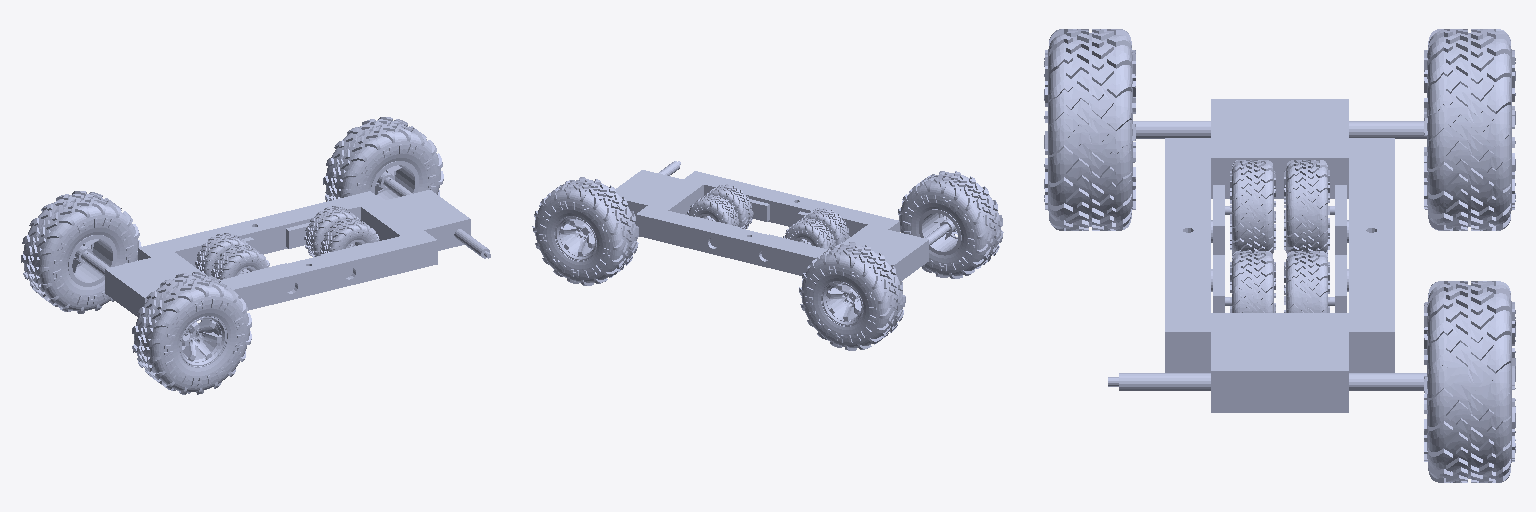
--- Render facts (derived) ---
Views: 3 orthographic renders of the robot side by side, from view 1: azimuth 30°, elevation 25°; view 2: azimuth 150°, elevation 25°; view 3: azimuth 270°, elevation 25°.
Robot: optimus_corrected_origin — 19 links, 18 joints (8 continuous, 10 fixed); root link base_link; default pose: all joints at 0.
Links seen in each view (by area): view 1: base_link, RR_outer_wheel_link, RL_outer_wheel_link, FR_outer_wheel_link, F_bogie_link, R_bogie_link, FR_inner_wheel_link, RR_inner_wheel_link, FL_inner_wheel_link, RL_inner_wheel_link; view 2: base_link, RL_outer_wheel_link, FR_outer_wheel_link, RR_outer_wheel_link, F_bogie_link, R_bogie_link, FL_inner_wheel_link, RL_inner_wheel_link, FR_inner_wheel_link, RR_inner_wheel_link; view 3: base_link, FR_outer_wheel_link, RR_outer_wheel_link, RL_outer_wheel_link, F_bogie_link, R_bogie_link, RL_inner_wheel_link, RR_inner_wheel_link, FL_inner_wheel_link, FR_inner_wheel_link, FL_outer_wheel_connector_link, FR_outer_wheel_connector_link (+6 smaller).
Boxes of the visible links, bbox=[...] form: base_link: bbox=[138, 191, 437, 310]; RR_outer_wheel_link: bbox=[132, 272, 251, 394]; RL_outer_wheel_link: bbox=[21, 191, 141, 313]; FR_outer_wheel_link: bbox=[323, 117, 443, 201]; F_bogie_link: bbox=[361, 190, 470, 263]; R_bogie_link: bbox=[105, 252, 207, 316]; FR_inner_wheel_link: bbox=[320, 218, 379, 253]; RR_inner_wheel_link: bbox=[211, 245, 269, 279]; FL_inner_wheel_link: bbox=[304, 206, 358, 256]; RL_inner_wheel_link: bbox=[195, 233, 250, 275]; base_link: bbox=[636, 171, 899, 275]; RL_outer_wheel_link: bbox=[799, 242, 905, 350]; FR_outer_wheel_link: bbox=[532, 177, 638, 285]; RR_outer_wheel_link: bbox=[898, 171, 1003, 278]; F_bogie_link: bbox=[615, 170, 703, 234]; R_bogie_link: bbox=[842, 225, 928, 280]; FL_inner_wheel_link: bbox=[687, 194, 739, 227]; RL_inner_wheel_link: bbox=[783, 218, 835, 248]; FR_inner_wheel_link: bbox=[705, 184, 753, 228]; RR_inner_wheel_link: bbox=[802, 208, 849, 244]; base_link: bbox=[1165, 138, 1394, 372]; FR_outer_wheel_link: bbox=[1424, 281, 1515, 482]; RR_outer_wheel_link: bbox=[1044, 29, 1135, 230]; RL_outer_wheel_link: bbox=[1424, 29, 1515, 230]; F_bogie_link: bbox=[1211, 313, 1348, 412]; R_bogie_link: bbox=[1211, 99, 1348, 198]; RL_inner_wheel_link: bbox=[1284, 160, 1334, 255]; RR_inner_wheel_link: bbox=[1225, 160, 1275, 255]; FL_inner_wheel_link: bbox=[1284, 251, 1334, 312]; FR_inner_wheel_link: bbox=[1225, 251, 1275, 312]; FL_outer_wheel_connector_link: bbox=[1108, 373, 1210, 390]; FR_outer_wheel_connector_link: bbox=[1349, 373, 1426, 390].
Size in the robot's own frame: 3.48 by 2.05 by 0.8842 metres.
Meshes: 19 distinct files referenced, 18 mesh visuals loaded (18 binary STL); not drawn: 1 (reference not matched to a file when rendering).

The robot description file, URDF, robot "optimus_corrected_origin":
<?xml version="1.0" encoding="utf-8"?>
<!-- This URDF was automatically created by SolidWorks to URDF Exporter! Originally created by Stephen Brawner ([email redacted]) 
     Commit Version: 1.6.0-1-g15f4949  Build Version: 1.6.7594.29634
     For more information, please see http://wiki.ros.org/sw_urdf_exporter -->
<robot
  name="optimus_corrected_origin">
  <link
    name="base_link">
    <inertial>
      <origin
        xyz="0.00027198 0 -0.1"
        rpy="0 0 0" />
      <mass
        value="144.39" />
      <inertia
        ixx="0.9898"
        ixy="-4.8728E-16"
        ixz="-3.8733E-16"
        iyy="11.564"
        iyz="1.3264E-17"
        izz="11.526" />
    </inertial>
    <visual>
      <origin
        xyz="0 0 0"
        rpy="0 0 0" />
      <geometry>
        <mesh
          filename="package://optimus_corrected_origin/meshes/base_link.STL" />
      </geometry>
      <material
        name="">
        <color
          rgba="0.79216 0.81961 0.93333 1" />
      </material>
    </visual>
    <collision>
      <origin
        xyz="0 0 0"
        rpy="0 0 0" />
      <geometry>
        <mesh
          filename="package://optimus_corrected_origin/meshes/base_link.STL" />
      </geometry>
    </collision>
  </link>
  <link
    name="F_bogie_link">
    <inertial>
      <origin
        xyz="-0.024416 2.2204E-16 -0.1"
        rpy="0 0 0" />
      <mass
        value="75.142" />
      <inertia
        ixx="3.3216"
        ixy="-2.8318E-16"
        ixz="-1.0263E-16"
        iyy="2.4935"
        iyz="-3.1203E-18"
        izz="5.3225" />
    </inertial>
    <visual>
      <origin
        xyz="0 0 0"
        rpy="0 0 0" />
      <geometry>
        <mesh
          filename="package://optimus_corrected_origin/meshes/F_bogie_link.STL" />
      </geometry>
      <material
        name="">
        <color
          rgba="0.79216 0.81961 0.93333 1" />
      </material>
    </visual>
    <collision>
      <origin
        xyz="0 0 0"
        rpy="0 0 0" />
      <geometry>
        <mesh
          filename="package://optimus_corrected_origin/meshes/F_bogie_link.STL" />
      </geometry>
    </collision>
  </link>
  <joint
    name="F_bogie_joint"
    type="fixed">
    <origin
      xyz="1.1 0 0"
      rpy="0 0 0" />
    <parent
      link="base_link" />
    <child
      link="F_bogie_link" />
    <axis
      xyz="0 0 0" />
  </joint>
  <link
    name="FR_outer_wheel_connector_link">
    <inertial>
      <origin
        xyz="-1.85268467234323E-15 0.206818181818182 4.10782519111308E-15"
        rpy="0 0 0" />
      <mass
        value="2.07345115136926" />
      <inertia
        ixx="0.0307163509718099"
        ixy="1.36572961430801E-17"
        ixz="3.68922553198698E-20"
        iyy="0.00162106180925233"
        iyz="-4.74701603502452E-17"
        izz="0.0307163509718099" />
    </inertial>
    <visual>
      <origin
        xyz="0 0 0"
        rpy="0 0 0" />
      <geometry>
        <mesh
          filename="package://optimus_corrected_origin/meshes/FR_outer_wheel_connector_link.STL" />
      </geometry>
      <material
        name="">
        <color
          rgba="0.792156862745098 0.819607843137255 0.933333333333333 1" />
      </material>
    </visual>
    <collision>
      <origin
        xyz="0 0 0"
        rpy="0 0 0" />
      <geometry>
        <mesh
          filename="package://optimus_corrected_origin/meshes/FR_outer_wheel_connector_link.STL" />
      </geometry>
    </collision>
  </link>
  <joint
    name="FR_outer_wheel_connector_joint"
    type="fixed">
    <origin
      xyz="0.2 0.3 -0.1"
      rpy="0 0 0" />
    <parent
      link="F_bogie_link" />
    <child
      link="FR_outer_wheel_connector_link" />
    <axis
      xyz="0 0 0" />
  </joint>
  <link
    name="FR_outer_wheel_link">
    <inertial>
      <origin
        xyz="7.94662217230846E-07 0.201565805423125 -3.29128348464103E-06"
        rpy="0 0 0" />
      <mass
        value="39.6885330149725" />
      <inertia
        ixx="2.95667434379043"
        ixy="-1.79772249602782E-06"
        ixz="-4.34948566726761E-06"
        iyy="4.63080044138697"
        iyz="7.42030339833979E-06"
        izz="2.95669122576413" />
    </inertial>
    <visual>
      <origin
        xyz="0 0 0"
        rpy="0 0 0" />
      <geometry>
        <mesh
          filename="package://optimus_corrected_origin/meshes/FR_outer_wheel_link.STL" />
      </geometry>
      <material
        name="">
        <color
          rgba="0.792156862745098 0.819607843137255 0.933333333333333 1" />
      </material>
    </visual>
    <collision>
      <origin
        xyz="0 0 0"
        rpy="0 0 0" />
      <geometry>
        <mesh
          filename="package://optimus_corrected_origin/meshes/FR_outer_wheel_link.STL" />
      </geometry>
    </collision>
  </link>
  <joint
    name="FR_outer_wheel_joint"
    type="continuous">
    <origin
      xyz="0 0.32674 0"
      rpy="0 0 0" />
    <parent
      link="FR_outer_wheel_connector_link" />
    <child
      link="FR_outer_wheel_link" />
    <axis
      xyz="0 1 0" />
  </joint>
  <link
    name="FL_outer_wheel_connector_link">
    <inertial>
      <origin
        xyz="-5.37070388162419E-15 -0.206818181818182 6.77236045021345E-15"
        rpy="0 0 0" />
      <mass
        value="2.07345115136926" />
      <inertia
        ixx="0.0307163509718099"
        ixy="8.97759060052446E-18"
        ixz="-1.25952034604741E-19"
        iyy="0.00162106180925233"
        iyz="2.16951266466499E-17"
        izz="0.0307163509718099" />
    </inertial>
    <visual>
      <origin
        xyz="0 0 0"
        rpy="0 0 0" />
      <geometry>
        <mesh
          filename="package://optimus_corrected_origin/meshes/FL_outer_wheel_connector_link.STL" />
      </geometry>
      <material
        name="">
        <color
          rgba="0.792156862745098 0.819607843137255 0.933333333333333 1" />
      </material>
    </visual>
    <collision>
      <origin
        xyz="0 0 0"
        rpy="0 0 0" />
      <geometry>
        <mesh
          filename="package://optimus_corrected_origin/meshes/FL_outer_wheel_connector_link.STL" />
      </geometry>
    </collision>
  </link>
  <joint
    name="FL_outer_wheel_connector_joint"
    type="fixed">
    <origin
      xyz="0.2 -0.3 -0.1"
      rpy="0 0 0" />
    <parent
      link="F_bogie_link" />
    <child
      link="FL_outer_wheel_connector_link" />
    <axis
      xyz="0 0 0" />
  </joint>
  <link
    name="FL_outer_wheel__link">
    <inertial>
      <origin
        xyz="-2.92249659344934E-06 -0.201565805423117 -1.70969258106446E-06"
        rpy="0 0 0" />
      <mass
        value="39.6885330149755" />
      <inertia
        ixx="2.95668745449248"
        ixy="-6.59311314635011E-06"
        ixz="8.26813447856092E-06"
        iyy="4.63080044138726"
        iyz="-3.85013865752919E-06"
        izz="2.95667811506248" />
    </inertial>
    <visual>
      <origin
        xyz="0 0 0"
        rpy="0 0 0" />
      <geometry>
        <mesh
          filename="package://optimus_corrected_origin/meshes/FL_outer_wheel__link.STL" />
      </geometry>
      <material
        name="">
        <color
          rgba="0.792156862745098 0.819607843137255 0.933333333333333 1" />
      </material>
    </visual>
    <collision>
      <origin
        xyz="0 0 0"
        rpy="0 0 0" />
      <geometry>
        <mesh
          filename="package://optimus_corrected_origin/meshes/FL_outer_wheel__link.STL" />
      </geometry>
    </collision>
  </link>
  <joint
    name="FL_outer_wheel_joint"
    type="continuous">
    <origin
      xyz="0 -0.32674 0"
      rpy="0 0 0" />
    <parent
      link="FL_outer_wheel_connector_link" />
    <child
      link="FL_outer_wheel__link" />
    <axis
      xyz="0 -1 0" />
  </joint>
  <link
    name="R_bogie_link">
    <inertial>
      <origin
        xyz="0.0244164389508561 1.11022302462516E-16 -0.0999999999999998"
        rpy="0 0 0" />
      <mass
        value="75.1415926535897" />
      <inertia
        ixx="3.32158725212812"
        ixy="1.04663201039582E-16"
        ixz="-6.0439083476423E-17"
        iyy="2.49354029185103"
        iyz="1.38285501712138E-16"
        izz="5.32245435921456" />
    </inertial>
    <visual>
      <origin
        xyz="0 0 0"
        rpy="0 0 0" />
      <geometry>
        <mesh
          filename="package://optimus_corrected_origin/meshes/R_bogie_link.STL" />
      </geometry>
      <material
        name="">
        <color
          rgba="0.792156862745098 0.819607843137255 0.933333333333333 1" />
      </material>
    </visual>
    <collision>
      <origin
        xyz="0 0 0"
        rpy="0 0 0" />
      <geometry>
        <mesh
          filename="package://optimus_corrected_origin/meshes/R_bogie_link.STL" />
      </geometry>
    </collision>
  </link>
  <joint
    name="R_bogie_joint"
    type="fixed">
    <origin
      xyz="-1.1 0 0"
      rpy="0 0 0" />
    <parent
      link="base_link" />
    <child
      link="R_bogie_link" />
    <axis
      xyz="0 0 0" />
  </joint>
  <link
    name="RL_outer_wheel_connector_link">
    <inertial>
      <origin
        xyz="-4.44089209850063E-16 0.206818181818182 2.22044604925031E-16"
        rpy="0 0 0" />
      <mass
        value="2.07345115136926" />
      <inertia
        ixx="0.0307163509718099"
        ixy="-1.54925599286273E-17"
        ixz="7.77880648044805E-20"
        iyy="0.00162106180925233"
        iyz="-2.30745184784673E-17"
        izz="0.0307163509718099" />
    </inertial>
    <visual>
      <origin
        xyz="0 0 0"
        rpy="0 0 0" />
      <geometry>
        <mesh
          filename="package://optimus_corrected_origin/meshes/RL_outer_wheel_connector_link.STL" />
      </geometry>
      <material
        name="">
        <color
          rgba="0.792156862745098 0.819607843137255 0.933333333333333 1" />
      </material>
    </visual>
    <collision>
      <origin
        xyz="0 0 0"
        rpy="0 0 0" />
      <geometry>
        <mesh
          filename="package://optimus_corrected_origin/meshes/RL_outer_wheel_connector_link.STL" />
      </geometry>
    </collision>
  </link>
  <joint
    name="RL_outer_wheel_connector_joint"
    type="fixed">
    <origin
      xyz="-0.2 0.3 -0.1"
      rpy="0 0 0" />
    <parent
      link="R_bogie_link" />
    <child
      link="RL_outer_wheel_connector_link" />
    <axis
      xyz="0 0 0" />
  </joint>
  <link
    name="RL_outer_wheel_link">
    <inertial>
      <origin
        xyz="1.05037916053874E-06 0.201565805282954 -3.21870601693863E-06"
        rpy="0 0 0" />
      <mass
        value="39.6885328227854" />
      <inertia
        ixx="2.95667512850444"
        ixy="-2.37453572280207E-06"
        ixz="-5.61709097472745E-06"
        iyy="4.63080044108311"
        iyz="7.25624788537814E-06"
        izz="2.95669044061308" />
    </inertial>
    <visual>
      <origin
        xyz="0 0 0"
        rpy="0 0 0" />
      <geometry>
        <mesh
          filename="package://optimus_corrected_origin/meshes/RL_outer_wheel_link.STL" />
      </geometry>
      <material
        name="">
        <color
          rgba="0.792156862745098 0.819607843137255 0.933333333333333 1" />
      </material>
    </visual>
    <collision>
      <origin
        xyz="0 0 0"
        rpy="0 0 0" />
      <geometry>
        <mesh
          filename="package://optimus_corrected_origin/meshes/RL_outer_wheel_link.STL" />
      </geometry>
    </collision>
  </link>
  <joint
    name="RL_outer_wheel_joint"
    type="continuous">
    <origin
      xyz="0 0.32674 0"
      rpy="0 0 0" />
    <parent
      link="RL_outer_wheel_connector_link" />
    <child
      link="RL_outer_wheel_link" />
    <axis
      xyz="0 1 0" />
  </joint>
  <link
    name="RR_outer_wheel_connector_link">
    <inertial>
      <origin
        xyz="1.33226762955019E-15 -0.206818181818182 -1.11022302462516E-16"
        rpy="0 0 0" />
      <mass
        value="2.07345115136926" />
      <inertia
        ixx="0.0307163509718099"
        ixy="3.02822472609956E-18"
        ixz="1.04996792420079E-20"
        iyy="0.00162106180925233"
        iyz="1.93901600133467E-17"
        izz="0.0307163509718099" />
    </inertial>
    <visual>
      <origin
        xyz="0 0 0"
        rpy="0 0 0" />
      <geometry>
        <mesh
          filename="package://optimus_corrected_origin/meshes/RR_outer_wheel_connector_link.STL" />
      </geometry>
      <material
        name="">
        <color
          rgba="0.792156862745098 0.819607843137255 0.933333333333333 1" />
      </material>
    </visual>
    <collision>
      <origin
        xyz="0 0 0"
        rpy="0 0 0" />
      <geometry>
        <mesh
          filename="package://optimus_corrected_origin/meshes/RR_outer_wheel_connector_link.STL" />
      </geometry>
    </collision>
  </link>
  <joint
    name="RR_outer_wheel_connector_joint"
    type="fixed">
    <origin
      xyz="-0.2 -0.3 -0.1"
      rpy="0 0 0" />
    <parent
      link="R_bogie_link" />
    <child
      link="RR_outer_wheel_connector_link" />
    <axis
      xyz="0 0 0" />
  </joint>
  <link
    name="RR_outer_wheel_link">
    <inertial>
      <origin
        xyz="-3.13523784090108E-06 -0.201565805423125 -1.27840475139251E-06"
        rpy="0 0 0" />
      <mass
        value="39.6885330149728" />
      <inertia
        ixx="2.95668958616865"
        ixy="-7.07207631433677E-06"
        ixz="6.62641370626784E-06"
        iyy="4.630800441387"
        iyz="-2.87722872087634E-06"
        izz="2.95667598338593" />
    </inertial>
    <visual>
      <origin
        xyz="0 0 0"
        rpy="0 0 0" />
      <geometry>
        <mesh
          filename="package://optimus_corrected_origin/meshes/RR_outer_wheel_link.STL" />
      </geometry>
      <material
        name="">
        <color
          rgba="0.792156862745098 0.819607843137255 0.933333333333333 1" />
      </material>
    </visual>
    <collision>
      <origin
        xyz="0 0 0"
        rpy="0 0 0" />
      <geometry>
        <mesh
          filename="package://optimus_corrected_origin/meshes/RR_outer_wheel_link.STL" />
      </geometry>
    </collision>
  </link>
  <joint
    name="RR_outer_wheel_joint"
    type="continuous">
    <origin
      xyz="0 -0.32674 0"
      rpy="0 0 0" />
    <parent
      link="RR_outer_wheel_connector_link" />
    <child
      link="RR_outer_wheel_link" />
    <axis
      xyz="0 -1 0" />
  </joint>
  <link
    name="FL_inner_wheel_connector_link">
    <inertial>
      <origin
        xyz="0.20508770745258 0.000744286749609024 -1.11022302462516E-16"
        rpy="0 0 0" />
      <mass
        value="3.16570796326795" />
      <inertia
        ixx="0.00666180087935192"
        ixy="0.000247607077286714"
        ixz="1.6098074917693E-19"
        iyy="0.0524105342655653"
        iyz="6.75526439645087E-19"
        izz="0.0471742267451069" />
    </inertial>
    <visual>
      <origin
        xyz="0 0 0"
        rpy="0 0 0" />
      <geometry>
        <mesh
          filename="package://optimus_corrected_origin/meshes/FL_inner_wheel_connector_link.STL" />
      </geometry>
      <material
        name="">
        <color
          rgba="0.792156862745098 0.819607843137255 0.933333333333333 1" />
      </material>
    </visual>
    <collision>
      <origin
        xyz="0 0 0"
        rpy="0 0 0" />
      <geometry>
        <mesh
          filename="package://optimus_corrected_origin/meshes/FL_inner_wheel_connector_link.STL" />
      </geometry>
    </collision>
  </link>
  <joint
    name="FL_inner_wheel_connector_joint"
    type="fixed">
    <origin
      xyz="0.15 0.265 -0.1"
      rpy="0 0 0" />
    <parent
      link="base_link" />
    <child
      link="FL_inner_wheel_connector_link" />
    <axis
      xyz="0 0 0" />
  </joint>
  <link
    name="FL_inner_wheel_link">
    <inertial>
      <origin
        xyz="-2.22300115826357E-06 -0.122556778342617 -2.50814959334988E-06"
        rpy="0 0 0" />
      <mass
        value="5.0050487689712" />
      <inertia
        ixx="0.0924066318833436"
        ixy="-1.58412736937296E-07"
        ixz="2.94669651268579E-07"
        iyy="0.144720367774976"
        iyz="-1.78414903657771E-07"
        izz="0.092406701876922" />
    </inertial>
    <visual>
      <origin
        xyz="0 0 0"
        rpy="0 0 0" />
      <geometry>
        <mesh
          filename="package://optimus_corrected_origin/meshes/FL_inner_wheel_link.STL" />
      </geometry>
      <material
        name="">
        <color
          rgba="0.792156862745098 0.819607843137255 0.933333333333333 1" />
      </material>
    </visual>
    <collision>
      <origin
        xyz="0 0 0"
        rpy="0 0 0" />
      <geometry>
        <mesh
          filename="package://optimus_corrected_origin/meshes/FL_inner_wheel_link.STL" />
      </geometry>
    </collision>
  </link>
  <joint
    name="FL_inner_wheel_joint"
    type="continuous">
    <origin
      xyz="0.32 -0.025 0"
      rpy="0 0 0" />
    <parent
      link="FL_inner_wheel_connector_link" />
    <child
      link="FL_inner_wheel_link" />
    <axis
      xyz="0 -1 0" />
  </joint>
  <link
    name="FR_inner_wheel_connector_link">
    <inertial>
      <origin
        xyz="0.20508770745258 -0.000744286749609135 1.11022302462516E-16"
        rpy="0 0 0" />
      <mass
        value="3.16570796326795" />
      <inertia
        ixx="0.0066618008793519"
        ixy="-0.000247607077286714"
        ixz="-1.17700602431743E-18"
        iyy="0.0524105342655651"
        iyz="-4.08407090334487E-19"
        izz="0.0471742267451067" />
    </inertial>
    <visual>
      <origin
        xyz="0 0 0"
        rpy="0 0 0" />
      <geometry>
        <mesh
          filename="package://optimus_corrected_origin/meshes/FR_inner_wheel_connector_link.STL" />
      </geometry>
      <material
        name="">
        <color
          rgba="0.792156862745098 0.819607843137255 0.933333333333333 1" />
      </material>
    </visual>
    <collision>
      <origin
        xyz="0 0 0"
        rpy="0 0 0" />
      <geometry>
        <mesh
          filename="package://optimus_corrected_origin/meshes/FR_inner_wheel_connector_link.STL" />
      </geometry>
    </collision>
  </link>
  <joint
    name="FR_inner_wheel_connector_joint"
    type="fixed">
    <origin
      xyz="0.15 -0.265 -0.1"
      rpy="0 0 0" />
    <parent
      link="base_link" />
    <child
      link="FR_inner_wheel_connector_link" />
    <axis
      xyz="0 0 0" />
  </joint>
  <link
    name="FR_inner_wheel_link">
    <inertial>
      <origin
        xyz="-3.31118514906859E-06 0.122556779088169 -5.18267951332696E-07"
        rpy="0 0 0" />
      <mass
        value="5.00504892402194" />
      <inertia
        ixx="0.0924069493556727"
        ixy="2.35690015618929E-07"
        ixz="9.12031624363562E-08"
        iyy="0.144720367920832"
        iyz="3.71035989474246E-08"
        izz="0.0924063846028681" />
    </inertial>
    <visual>
      <origin
        xyz="0 0 0"
        rpy="0 0 0" />
      <geometry>
        <mesh
          filename="package://optimus_corrected_origin/meshes/FR_inner_wheel_link.STL" />
      </geometry>
      <material
        name="">
        <color
          rgba="0.792156862745098 0.819607843137255 0.933333333333333 1" />
      </material>
    </visual>
    <collision>
      <origin
        xyz="0 0 0"
        rpy="0 0 0" />
      <geometry>
        <mesh
          filename="package://optimus_corrected_origin/meshes/FR_inner_wheel_link.STL" />
      </geometry>
    </collision>
  </link>
  <joint
    name="FR_inner_wheel_joint"
    type="continuous">
    <origin
      xyz="0.32 0.025 0"
      rpy="0 0 0" />
    <parent
      link="FR_inner_wheel_connector_link" />
    <child
      link="FR_inner_wheel_link" />
    <axis
      xyz="0 1 0" />
  </joint>
  <link
    name="RL_inner_wheel_connector_link">
    <inertial>
      <origin
        xyz="-0.20508770745258 0.000744286749609246 0"
        rpy="0 0 0" />
      <mass
        value="3.16570796326795" />
      <inertia
        ixx="0.00666180087935194"
        ixy="-0.000247607077286711"
        ixz="-8.57886467619125E-18"
        iyy="0.0524105342655653"
        iyz="-2.27692614209372E-18"
        izz="0.0471742267451069" />
    </inertial>
    <visual>
      <origin
        xyz="0 0 0"
        rpy="0 0 0" />
      <geometry>
        <mesh
          filename="package://optimus_corrected_origin/meshes/RL_inner_wheel_connector_link.STL" />
      </geometry>
      <material
        name="">
        <color
          rgba="0.792156862745098 0.819607843137255 0.933333333333333 1" />
      </material>
    </visual>
    <collision>
      <origin
        xyz="0 0 0"
        rpy="0 0 0" />
      <geometry>
        <mesh
          filename="package://optimus_corrected_origin/meshes/RL_inner_wheel_connector_link.STL" />
      </geometry>
    </collision>
  </link>
  <joint
    name="RL_inner_wheel_connector_joint"
    type="fixed">
    <origin
      xyz="-0.15 0.265 -0.1"
      rpy="0 0 0" />
    <parent
      link="base_link" />
    <child
      link="RL_inner_wheel_connector_link" />
    <axis
      xyz="0 0 0" />
  </joint>
  <link
    name="RL_inner_wheel_link">
    <inertial>
      <origin
        xyz="2.39870415552623E-06 -0.122556778342622 2.34067658932968E-06"
        rpy="0 0 0" />
      <mass
        value="5.00504876897168" />
      <inertia
        ixx="0.0924066747929623"
        ixy="1.70910468737889E-07"
        ixz="2.96635054499153E-07"
        iyy="0.144720367774988"
        iyz="1.66481485161672E-07"
        izz="0.0924066589673187" />
    </inertial>
    <visual>
      <origin
        xyz="0 0 0"
        rpy="0 0 0" />
      <geometry>
        <mesh
          filename="package://optimus_corrected_origin/meshes/RL_inner_wheel_link.STL" />
      </geometry>
      <material
        name="">
        <color
          rgba="0.792156862745098 0.819607843137255 0.933333333333333 1" />
      </material>
    </visual>
    <collision>
      <origin
        xyz="0 0 0"
        rpy="0 0 0" />
      <geometry>
        <mesh
          filename="package://optimus_corrected_origin/meshes/RL_inner_wheel_link.STL" />
      </geometry>
    </collision>
  </link>
  <joint
    name="RL_inner_wheel_joint"
    type="continuous">
    <origin
      xyz="-0.32 -0.025 0"
      rpy="0 0 0" />
    <parent
      link="RL_inner_wheel_connector_link" />
    <child
      link="RL_inner_wheel_link" />
    <axis
      xyz="0 -1 0" />
  </joint>
  <link
    name="RR_inner_wheel_connector_link">
    <inertial>
      <origin
        xyz="-0.20508770745258 -0.000744286749609135 1.11022302462516E-16"
        rpy="0 0 0" />
      <mass
        value="3.16570796326795" />
      <inertia
        ixx="0.00666180087935192"
        ixy="0.000247607077286714"
        ixz="3.34428024835884E-18"
        iyy="0.0524105342655651"
        iyz="-2.59900485902853E-19"
        izz="0.0471742267451067" />
    </inertial>
    <visual>
      <origin
        xyz="0 0 0"
        rpy="0 0 0" />
      <geometry>
        <mesh
          filename="package://optimus_corrected_origin/meshes/RR_inner_wheel_connector_link.STL" />
      </geometry>
      <material
        name="">
        <color
          rgba="0.792156862745098 0.819607843137255 0.933333333333333 1" />
      </material>
    </visual>
    <collision>
      <origin
        xyz="0 0 0"
        rpy="0 0 0" />
      <geometry>
        <mesh
          filename="package://optimus_corrected_origin/meshes/RR_inner_wheel_connector_link.STL" />
      </geometry>
    </collision>
  </link>
  <joint
    name="RR_inner_wheel_connector_joint"
    type="fixed">
    <origin
      xyz="-0.15 -0.265 -0.1"
      rpy="0 0 0" />
    <parent
      link="base_link" />
    <child
      link="RR_inner_wheel_connector_link" />
    <axis
      xyz="0 0 0" />
  </joint>
  <link
    name="RR_inner_wheel_link">
    <inertial>
      <origin
        xyz="1.24620017638577E-07 0.122556779088174 -3.34918177913313E-06"
        rpy="0 0 0" />
      <mass
        value="5.00504892402154" />
      <inertia
        ixx="0.0924063711022311"
        ixy="-9.08227080992973E-09"
        ixz="-2.26104982609489E-08"
        iyy="0.144720367920822"
        iyz="2.38419740676118E-07"
        izz="0.0924069628562967" />
    </inertial>
    <visual>
      <origin
        xyz="0 0 0"
        rpy="0 0 0" />
      <geometry>
        <mesh
          filename="package://optimus_corrected_origin/meshes/RR_inner_wheel_link.STL" />
      </geometry>
      <material
        name="">
        <color
          rgba="0.792156862745098 0.819607843137255 0.933333333333333 1" />
      </material>
    </visual>
    <collision>
      <origin
        xyz="0 0 0"
        rpy="0 0 0" />
      <geometry>
        <mesh
          filename="package://optimus_corrected_origin/meshes/RR_inner_wheel_link.STL" />
      </geometry>
    </collision>
  </link>
  <joint
    name="RR_inner_wheel_joint"
    type="continuous">
    <origin
      xyz="-0.32 0.025 0"
      rpy="0 0 0" />
    <parent
      link="RR_inner_wheel_connector_link" />
    <child
      link="RR_inner_wheel_link" />
    <axis
      xyz="0 1 0" />
  </joint>
</robot>
